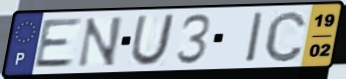3: (175, 12, 214, 66)
C: (262, 9, 309, 64)
E: (32, 16, 85, 70)
I: (244, 10, 266, 65)
N: (74, 15, 125, 70)
U: (128, 12, 177, 68)
